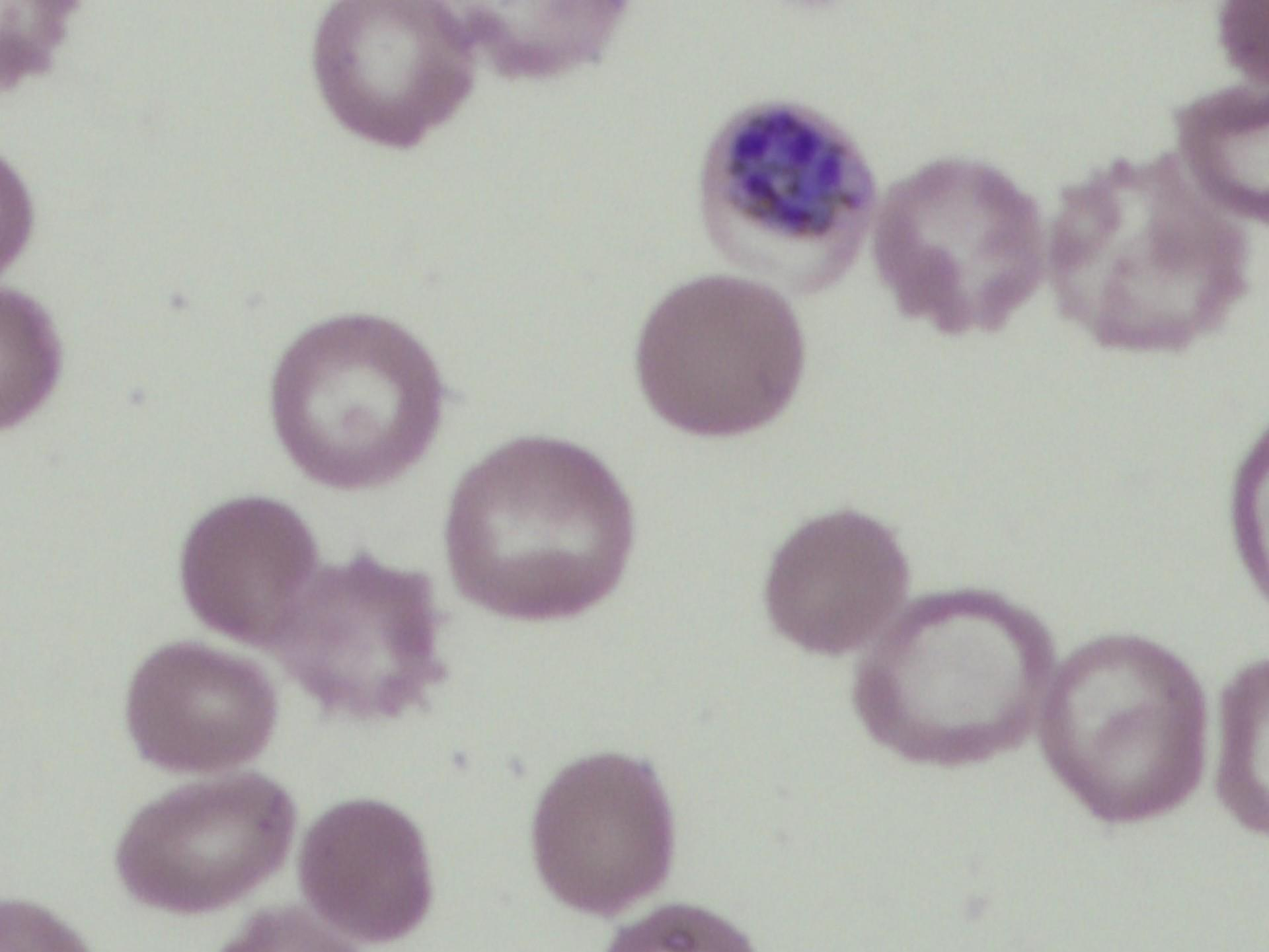Infected: (698, 95, 871, 291)
Uninfected: (1053, 153, 1251, 359), (850, 593, 1047, 768), (442, 439, 624, 616), (251, 553, 439, 717), (1042, 644, 1212, 820), (271, 316, 433, 492), (877, 166, 1034, 338), (637, 276, 799, 438), (117, 780, 292, 914), (535, 756, 673, 924), (317, 0, 466, 146), (181, 501, 328, 642), (295, 796, 436, 939), (767, 509, 900, 655), (123, 646, 272, 768)
